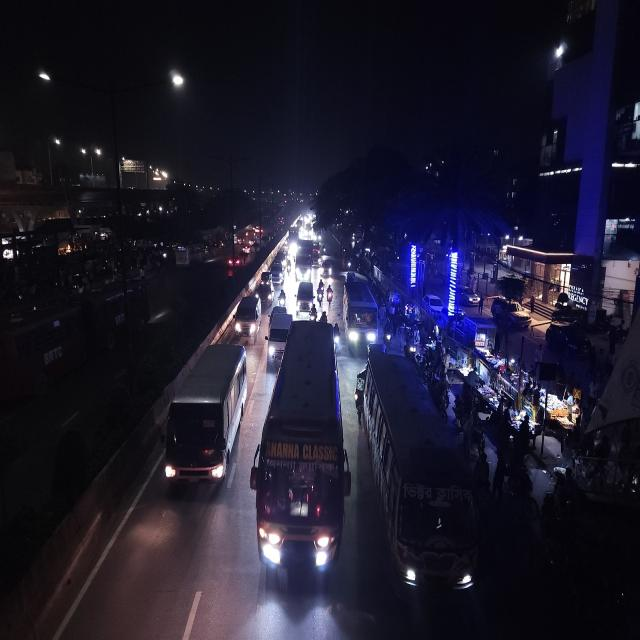bus: (363, 351, 481, 613), (252, 319, 350, 592), (162, 336, 249, 511), (342, 289, 378, 348), (173, 243, 203, 267)
car: (492, 291, 530, 331), (232, 291, 262, 341), (267, 309, 291, 366), (455, 280, 482, 311), (422, 289, 446, 318), (298, 276, 314, 317), (257, 283, 274, 305), (319, 260, 332, 280), (228, 253, 242, 268)
cng: (259, 268, 273, 288), (343, 255, 354, 271)
motorcycle: (384, 318, 394, 348), (277, 288, 288, 309), (316, 285, 324, 308), (327, 283, 334, 305), (284, 259, 292, 278), (322, 242, 328, 255)
truck: (293, 239, 314, 282)
